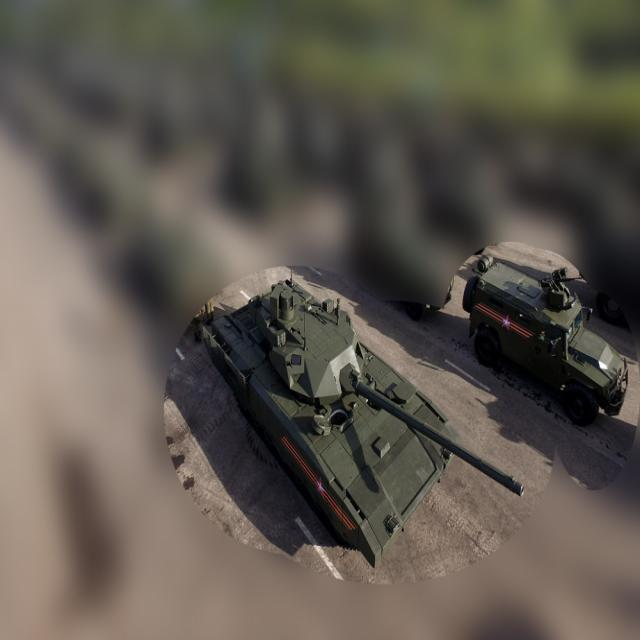tank: (200, 273, 524, 569)
